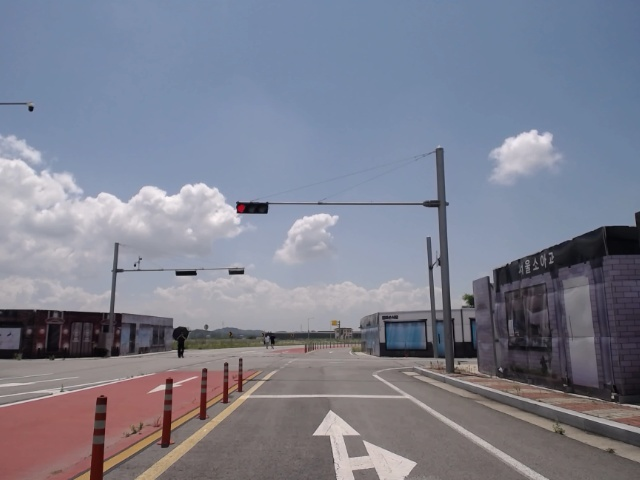red_3: (232, 200, 271, 217)
